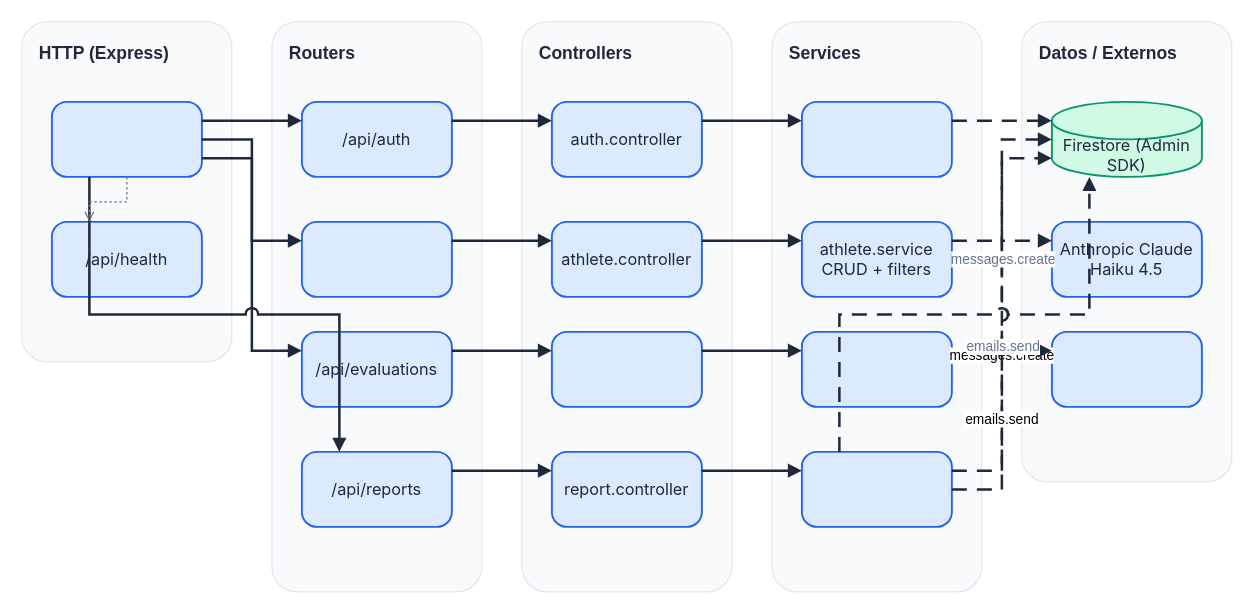
The diagram is 1254 pixels wide and 614 high, and some of its shapes have lost their labels. The centre of each missing label's shape, as x and y in pixels:
/api/athletes: point (376, 258)
evaluation.controller: point (626, 368)
evaluation.service scores + agregados: point (876, 368)
Express App src/index.ts CORS + JSON: point (126, 138)
report.service Claude + Puppeteer + Resend: point (876, 488)
Resend Email + PDF: point (1126, 368)
user.service findOrCreateUser: point (876, 138)
